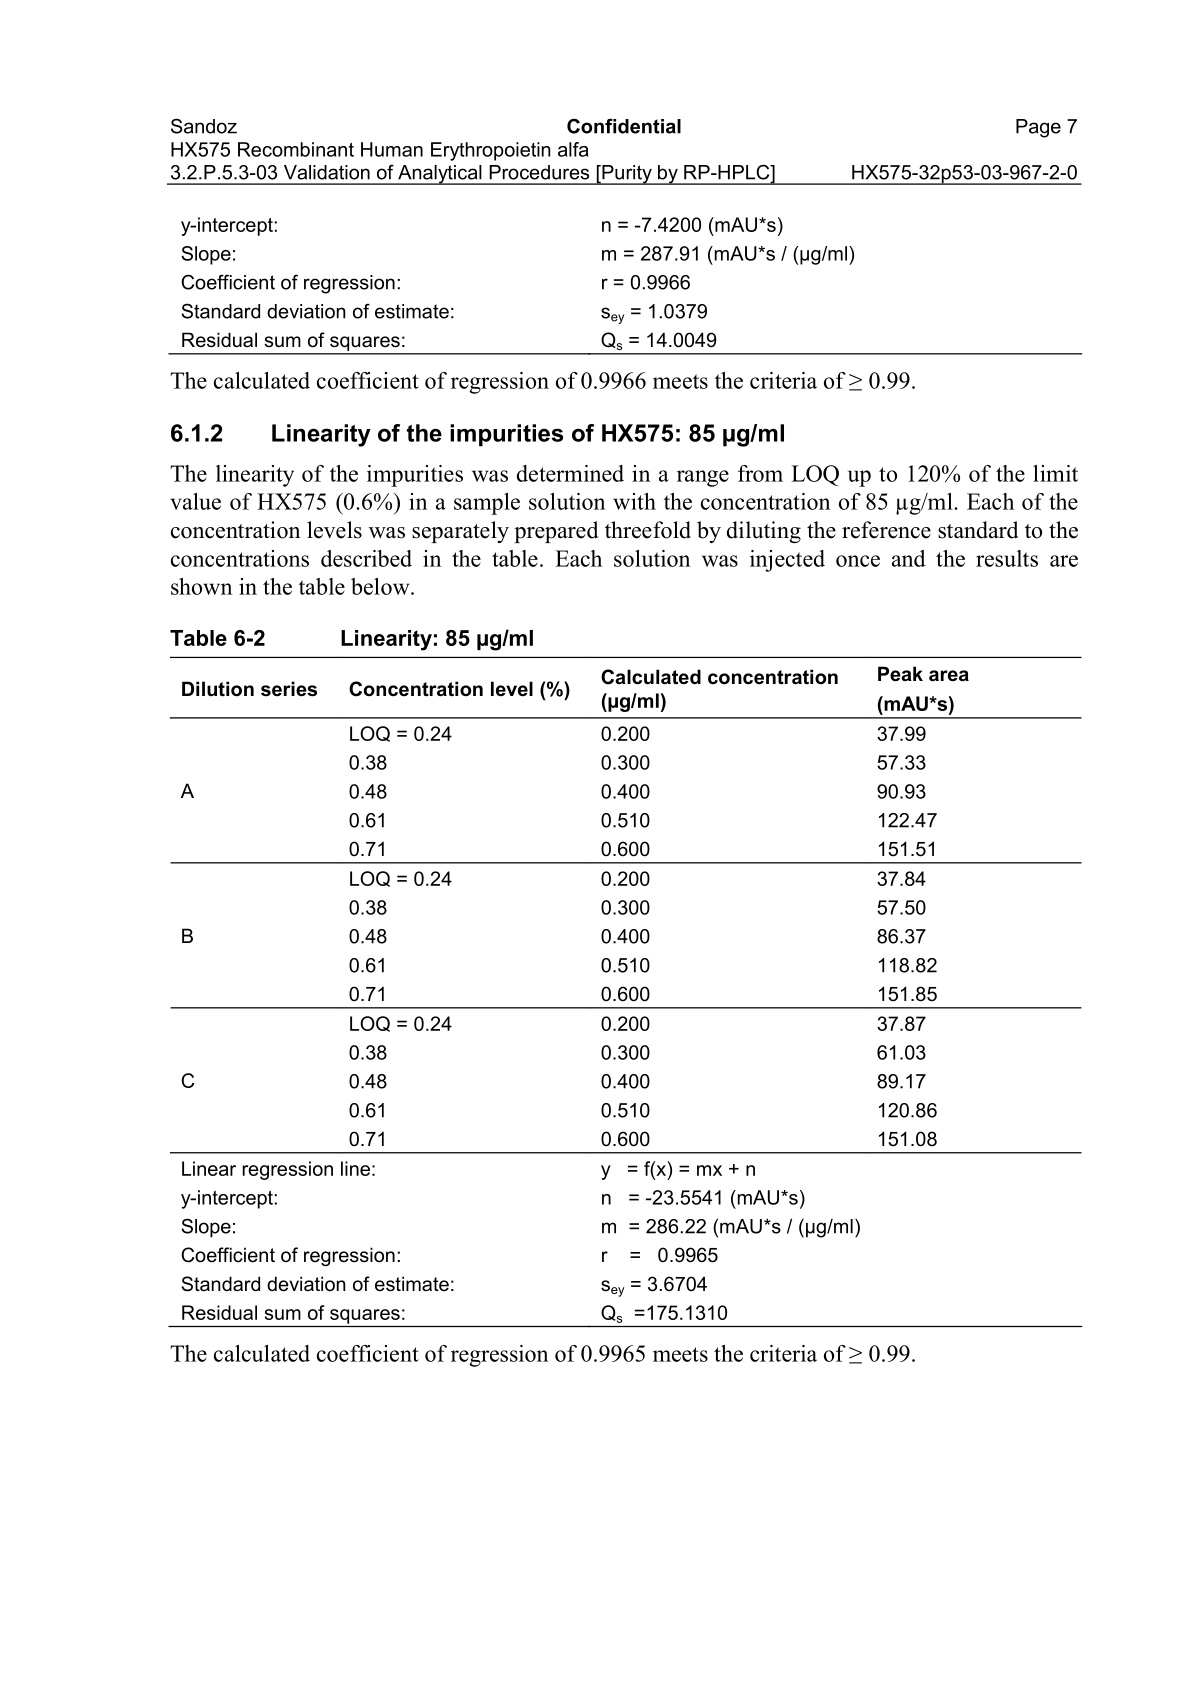partial_lined: (168, 207, 1081, 356)
partial_lined_merged_cells: (168, 655, 1083, 1328)
